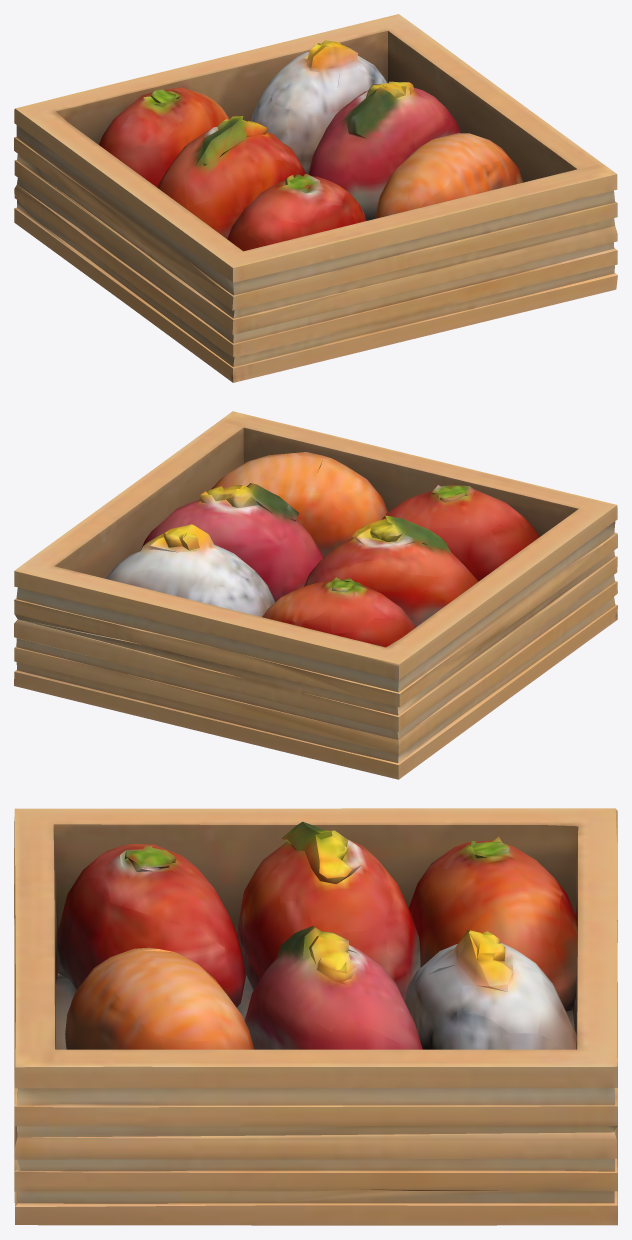
The model's file is item-sushi-bento.glb.
3 views of the same model, one above another, from view 1: azimuth 30°, elevation 25°; view 2: azimuth 150°, elevation 25°; view 3: azimuth 270°, elevation 25° (orthographic). The views are drawn at different scales.
Visible parts, largest first — view 1: item-sushi-bento; view 2: item-sushi-bento; view 3: item-sushi-bento.
Part boxes in pixels (x1,y1,x2,y2): item-sushi-bento: [14, 14, 617, 382]; item-sushi-bento: [14, 411, 617, 779]; item-sushi-bento: [14, 808, 617, 1225].
Size of the model in its own units: 0.24 by 0.093 by 0.2361.
1 material, 1 textured.
